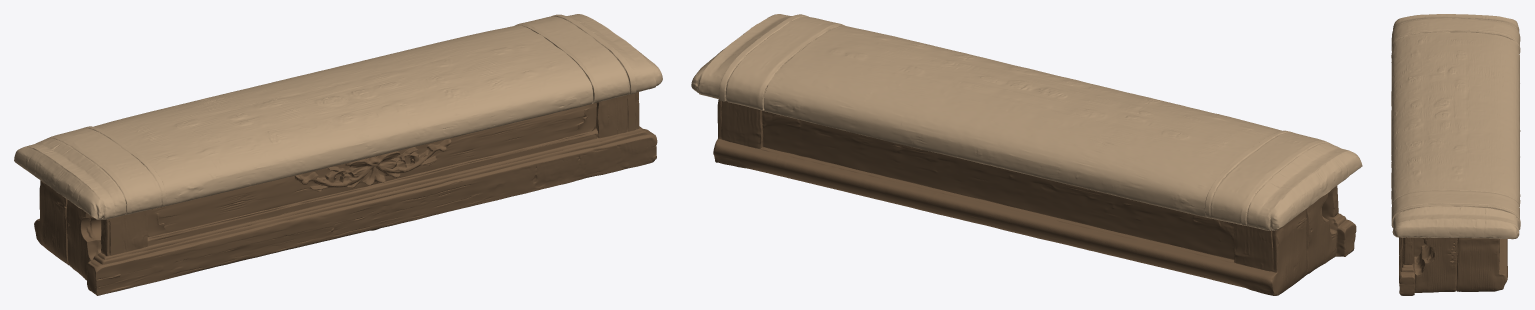
Rendered from kneeling-rest.glb.
3 renders of one model, left to right at view 1: azimuth 30°, elevation 25°; view 2: azimuth 150°, elevation 25°; view 3: azimuth 270°, elevation 25°, orthographic. The views are drawn at different scales.
Visible parts, largest first — view 1: ROG_KNEE_REST_HYPER3D_MASTER; view 2: ROG_KNEE_REST_HYPER3D_MASTER; view 3: ROG_KNEE_REST_HYPER3D_MASTER.
Part boxes in pixels (x1,y1,x2,y2): ROG_KNEE_REST_HYPER3D_MASTER: (14, 14, 662, 295); ROG_KNEE_REST_HYPER3D_MASTER: (691, 14, 1362, 295); ROG_KNEE_REST_HYPER3D_MASTER: (1391, 14, 1520, 295).
Bounding box in the file's own units: 3.33 × 0.6353 × 0.8649.
